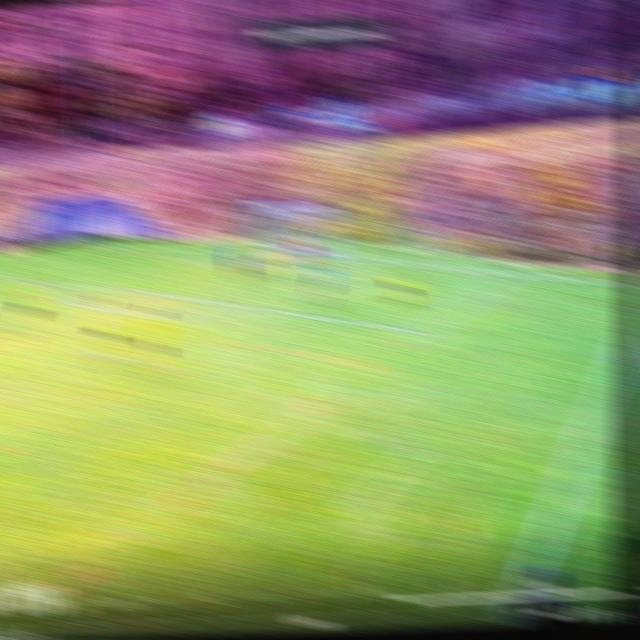bigarea_bottom_inner: (407, 318, 437, 350)
bigarea_bottom_outter: (492, 264, 519, 285)
bigarea_top_outter: (126, 240, 147, 254)
bottom_arc_area_intersection: (243, 297, 272, 322)
corner: (69, 238, 88, 248)
smallarea_bottom_inner: (332, 265, 356, 286)
smallarea_bottom_outter: (362, 251, 388, 269)
smallarea_top_inner: (162, 252, 190, 271)
smallarea_top_outter: (203, 240, 226, 259)
top_arc_area_intersection: (60, 277, 85, 293)
